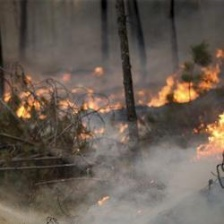fire: (6, 52, 224, 163)
smoke: (67, 144, 205, 224)
